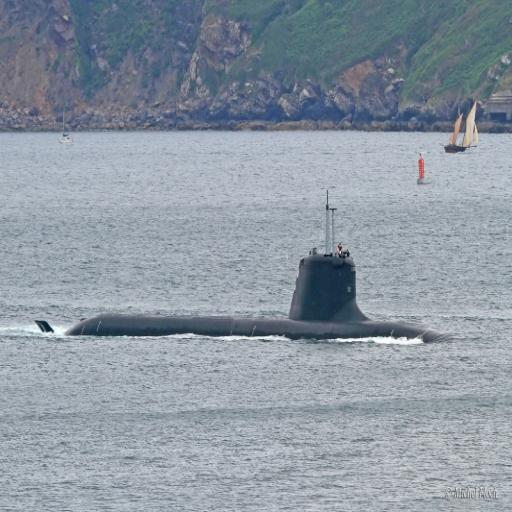submarine: (36, 192, 452, 339)
